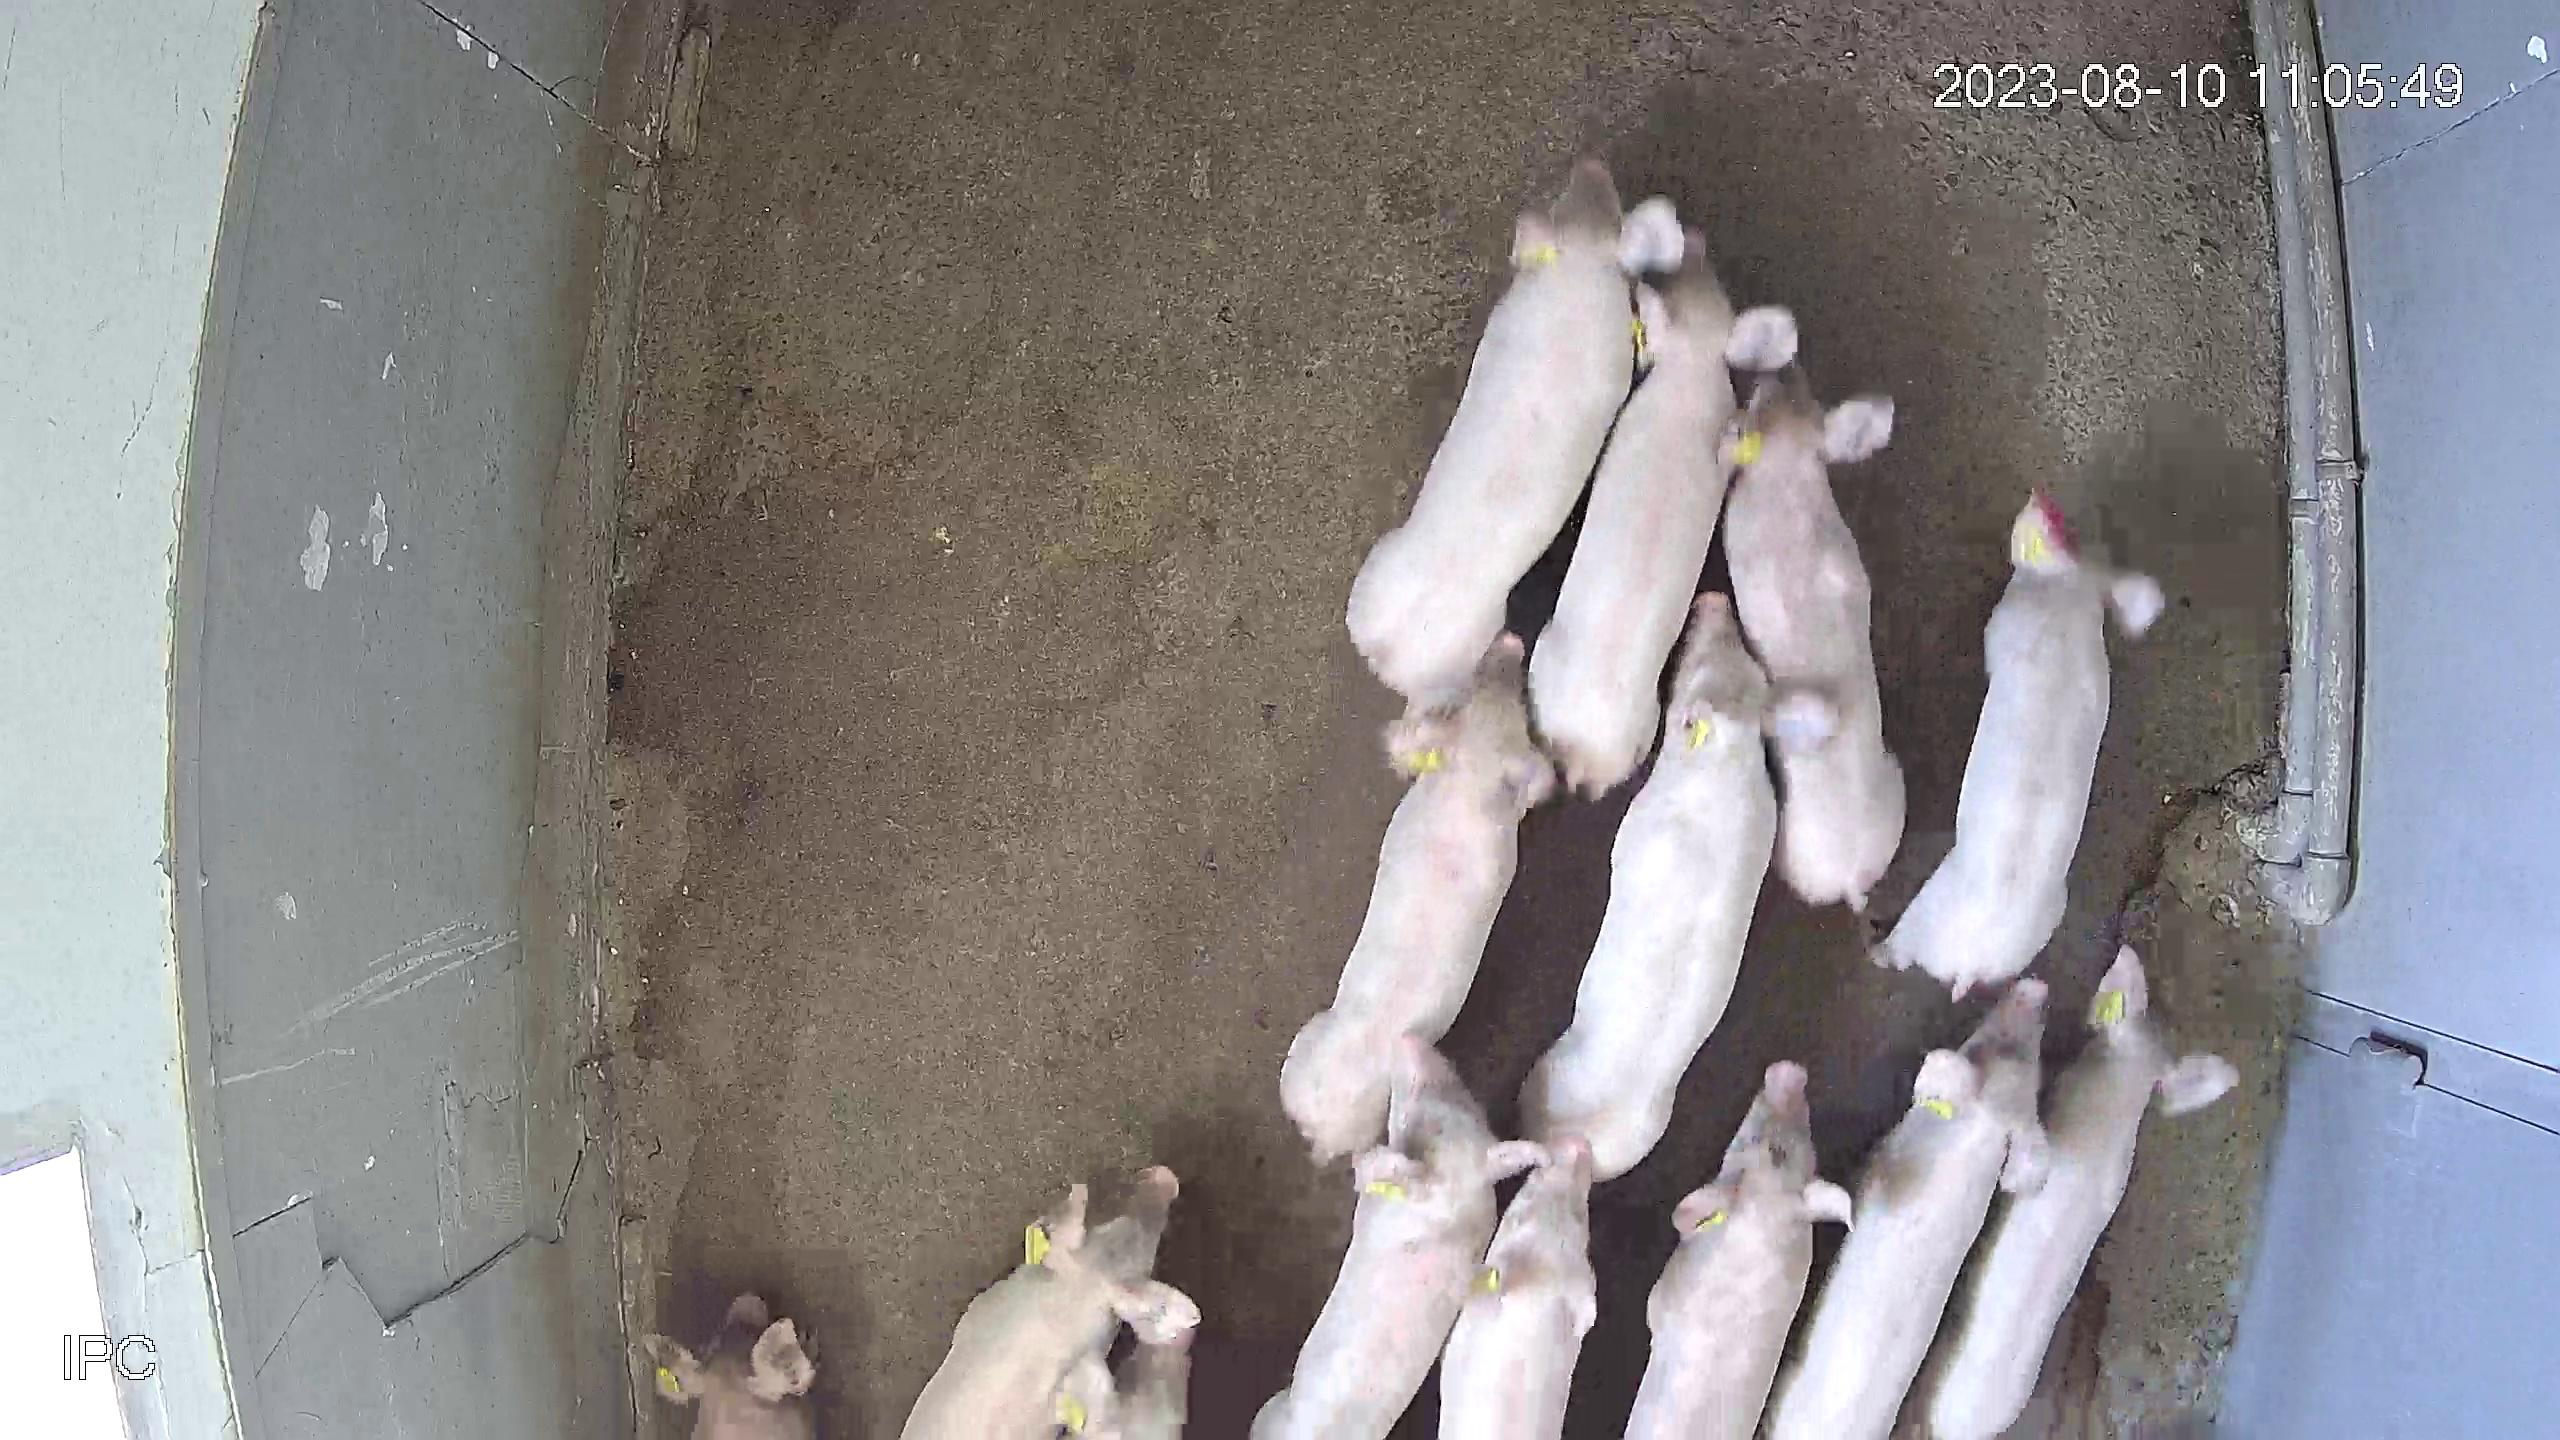Pig: (1906, 944, 2242, 1440), (1347, 155, 1635, 712), (1530, 229, 1799, 796), (1521, 591, 1779, 1180), (1876, 487, 2170, 999), (1282, 631, 1556, 1160), (1765, 978, 2052, 1440), (1252, 1034, 1547, 1440), (1727, 362, 1908, 911), (1626, 1060, 1853, 1440), (900, 1167, 1196, 1440), (1440, 1134, 1598, 1440), (642, 1296, 814, 1440), (1057, 1329, 1194, 1440)
